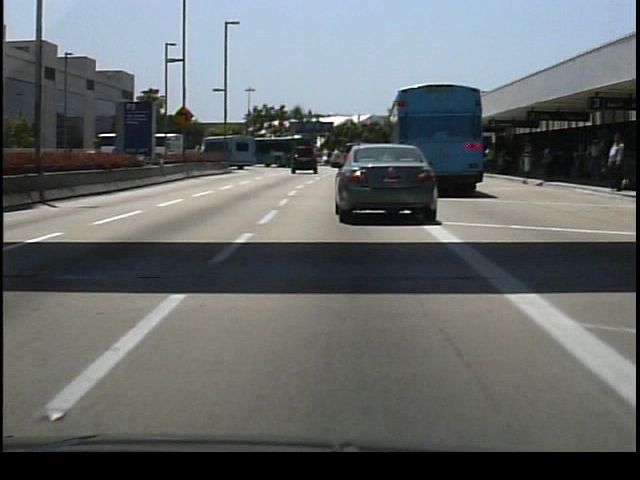person: (604, 130, 631, 196)
